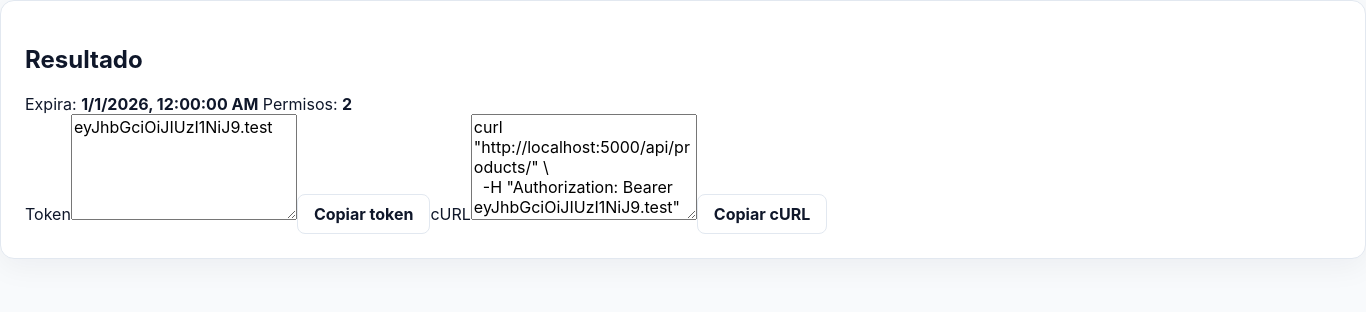
TestTokenResult › shows an error message when the clipboard is unavailable
The image size is (1366, 312).
Step 1. Click the button "Copiar token" → (364, 214), box [297,194,430,234]
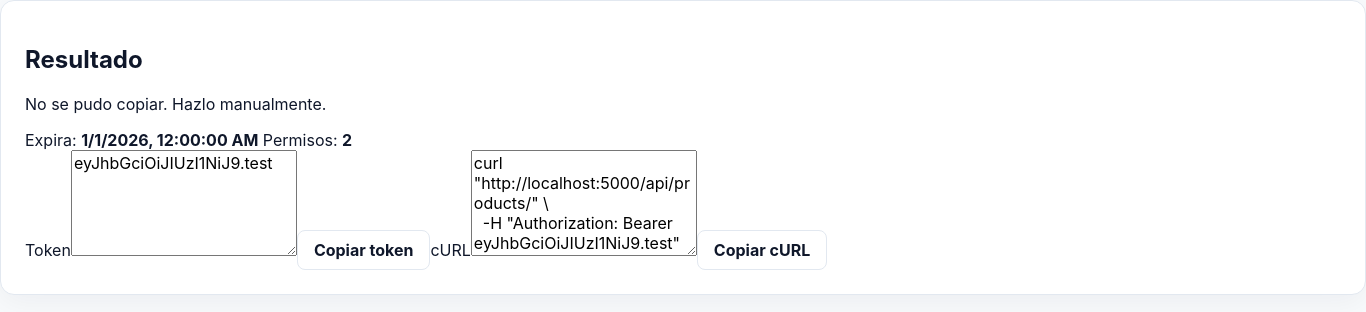
expect the text "No se pudo copiar. Hazlo manualmente." is shown: met, box [25,94,326,114]
